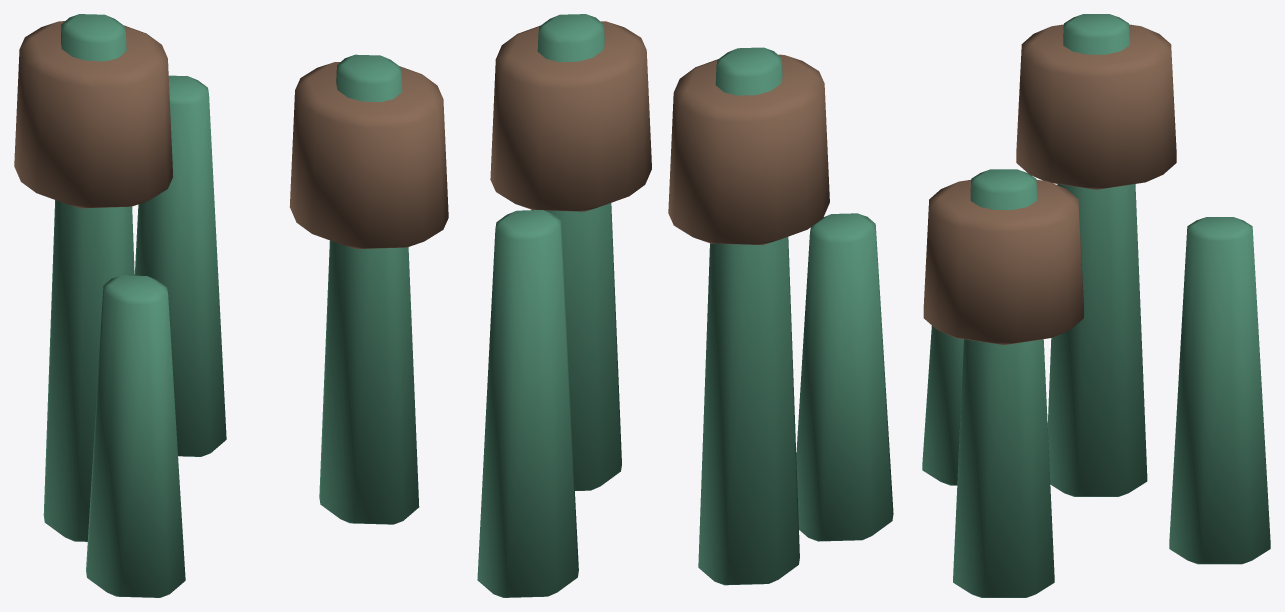
File: water-reed.glb
3 renders of one model, left to right at view 1: azimuth 30°, elevation 25°; view 2: azimuth 150°, elevation 25°; view 3: azimuth 270°, elevation 25°, orthographic. The views are drawn at different scales.
Parts seen in each view (by area): view 1: water-reed; view 2: water-reed; view 3: water-reed.
Boxes of the visible parts, x1,y1,x2,y2 form: water-reed: (14,14,448,597); water-reed: (477,14,893,597); water-reed: (922,14,1270,597).
Bounding box in the file's own units: 0.26 × 0.35 × 0.24.
